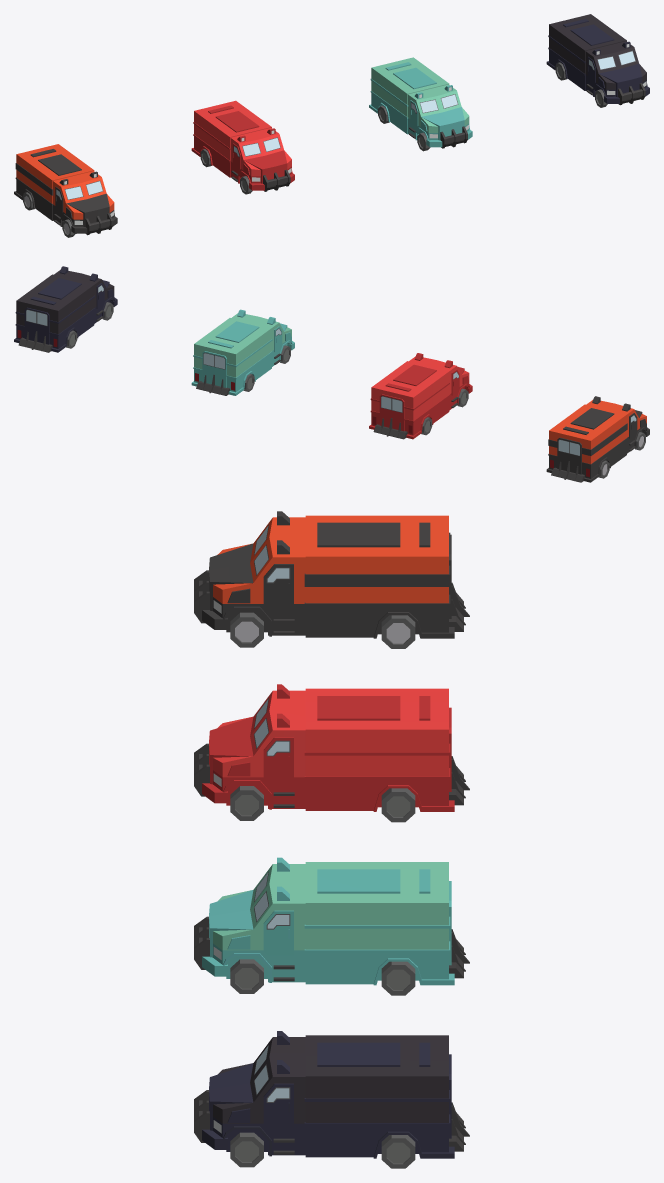
File: city_main_hero_trucks.glb
3 renders of one model, top to bottom at view 1: azimuth 30°, elevation 25°; view 2: azimuth 150°, elevation 25°; view 3: azimuth 270°, elevation 25°, orthographic. The views are drawn at different scales.
Visible parts, largest first — view 1: Main_Truck_4_Mat_0; view 2: Main_Truck_4_Mat_0; view 3: Main_Truck_4_Mat_0.
Part boxes in pixels (x1,y1,x2,y2): Main_Truck_4_Mat_0: (14, 14, 649, 237); Main_Truck_4_Mat_0: (14, 266, 649, 482); Main_Truck_4_Mat_0: (194, 511, 469, 1168).
Bounding box in the file's own units: 9.97 × 0.8108 × 2.06.
Materials: 1 (1 with a texture image).
